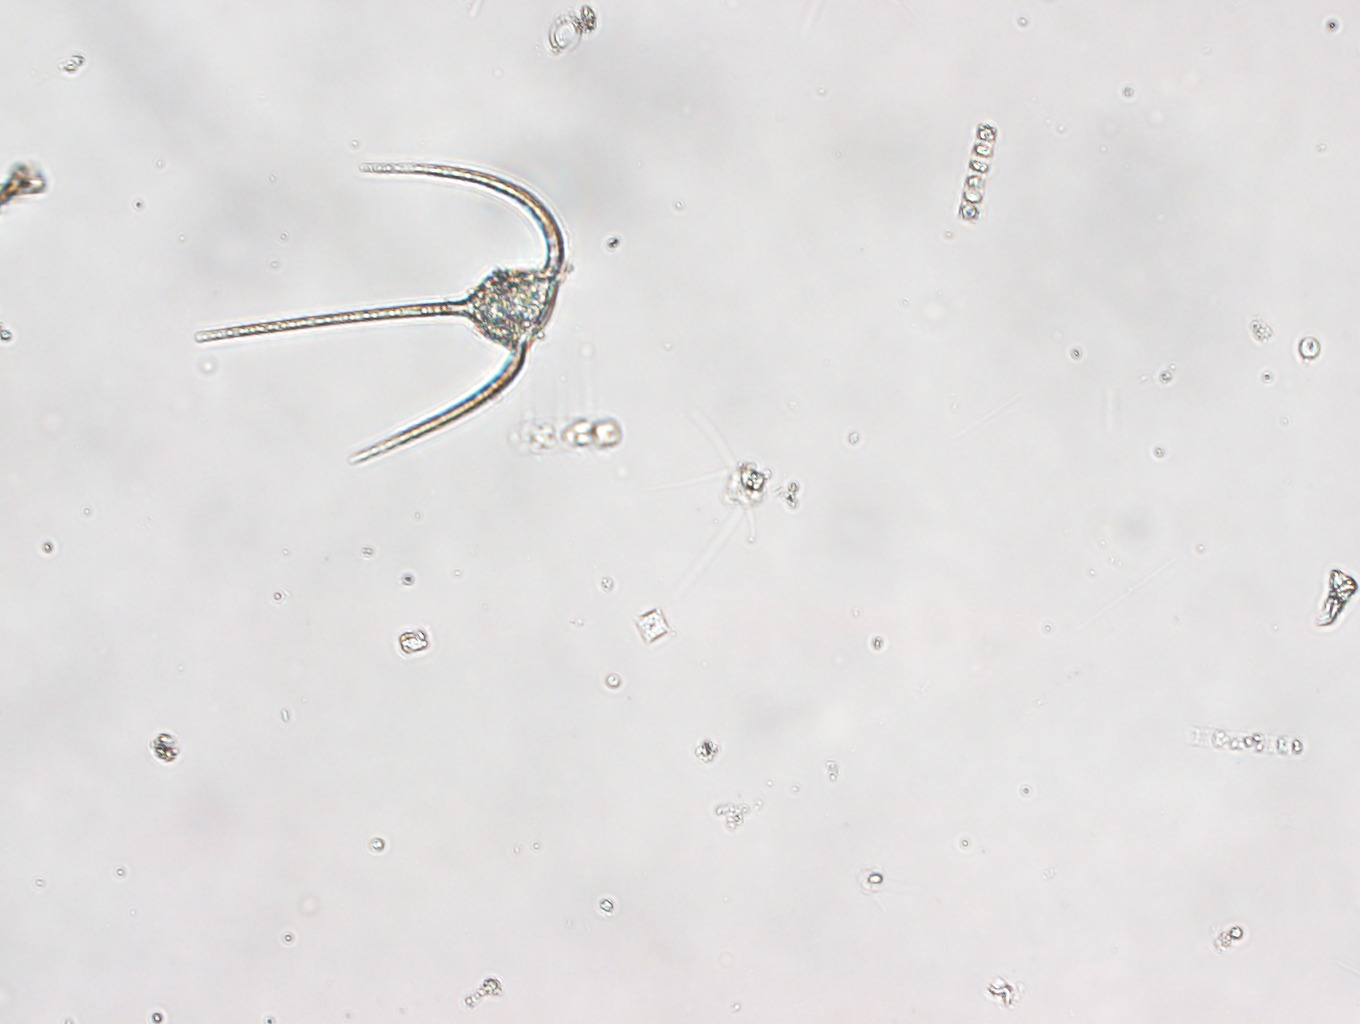skeletonema: (957, 117, 998, 227)
thalassionema frauenfeldii: (192, 159, 568, 465)
